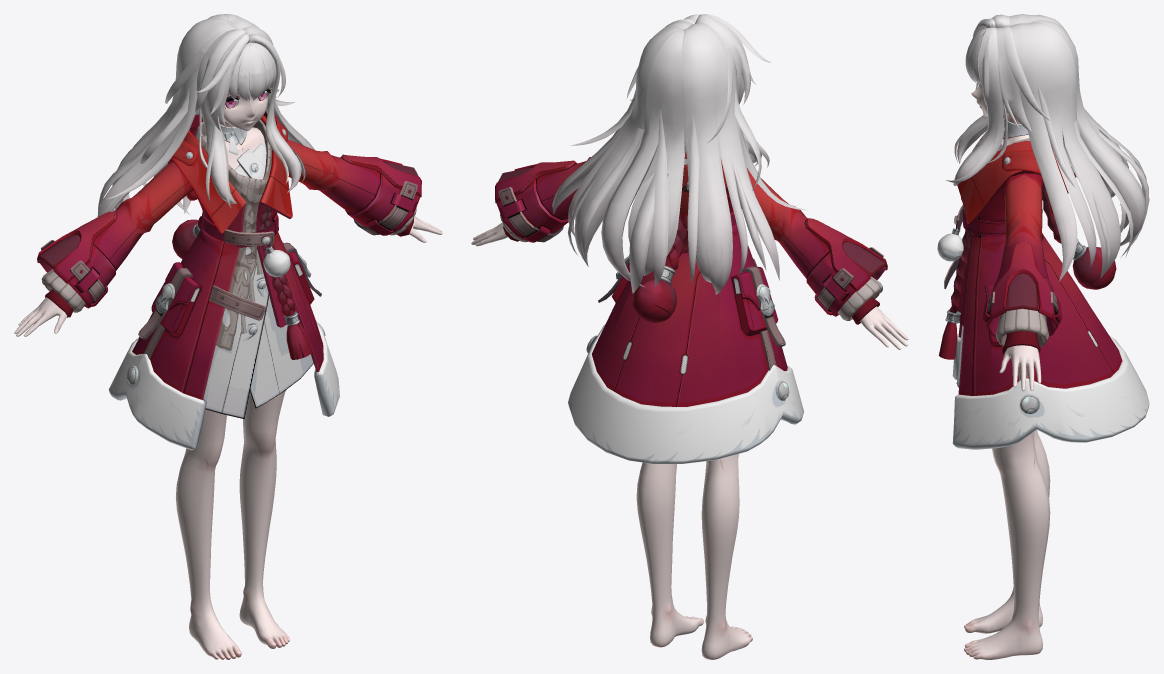
The model's file is clara.glb.
The picture shows the model from 3 angles, left to right: view 1: azimuth 30°, elevation 25°; view 2: azimuth 150°, elevation 25°; view 3: azimuth 270°, elevation 25°; orthographic projection. The views are drawn at different scales.
Bounding box in the file's own units: 1.67 × 2.29 × 0.7053.
Materials: 11 (5 with a texture image).
